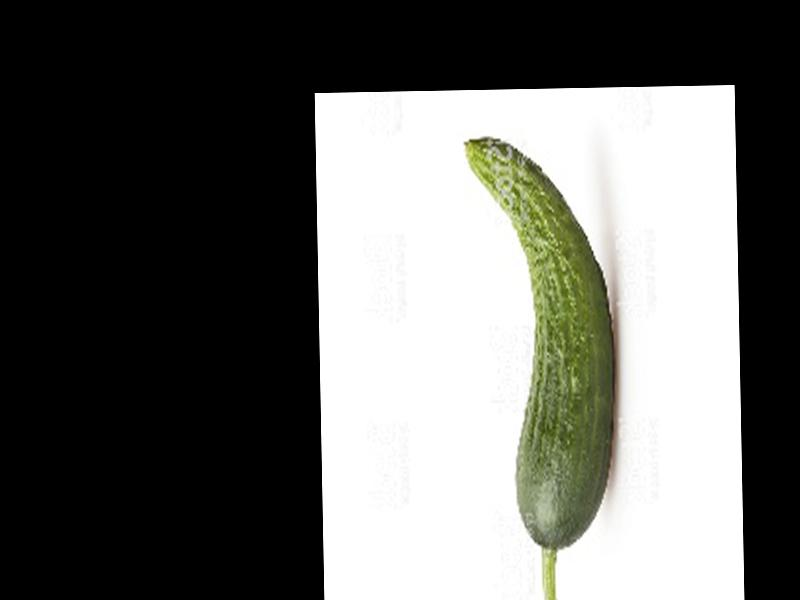Cucumber: (465, 134, 619, 600)
